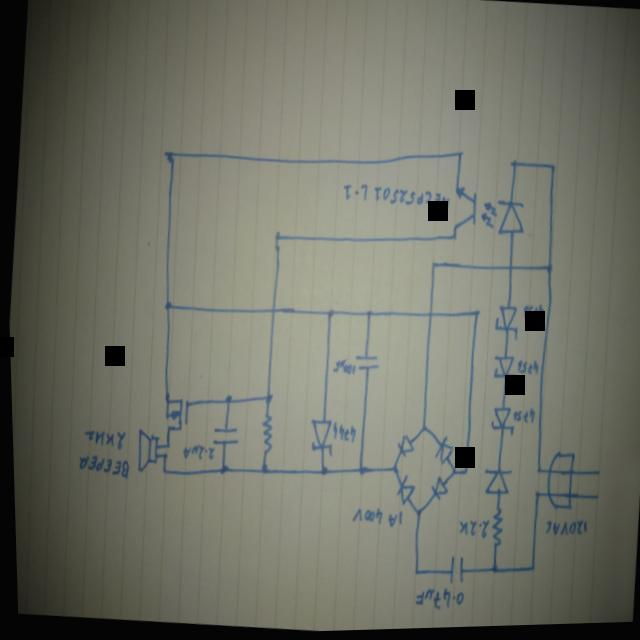capacitor: (438, 555, 465, 589), (206, 421, 237, 450), (350, 352, 378, 377)
crossover: (263, 305, 276, 318), (500, 264, 513, 276), (422, 312, 431, 321)
diode: (303, 417, 331, 460), (489, 304, 518, 345), (477, 467, 510, 500), (483, 406, 513, 440), (487, 355, 516, 389), (391, 475, 414, 510), (428, 436, 453, 468), (424, 475, 446, 504), (391, 433, 412, 461)
junction: (161, 148, 176, 165), (218, 390, 232, 408), (213, 461, 227, 478), (352, 463, 365, 481), (258, 392, 273, 407), (482, 563, 497, 578), (313, 465, 327, 480), (320, 307, 334, 322), (254, 462, 266, 479), (159, 299, 172, 314), (540, 263, 551, 279), (268, 230, 280, 244), (385, 464, 396, 479), (415, 424, 426, 438), (452, 150, 464, 162), (409, 508, 420, 521), (506, 160, 517, 173), (360, 310, 372, 321), (456, 466, 465, 480), (445, 466, 453, 480), (524, 563, 532, 577), (425, 261, 435, 272), (547, 163, 556, 175), (159, 441, 168, 452), (469, 310, 478, 321), (529, 491, 538, 502), (530, 469, 539, 480), (156, 466, 165, 476), (408, 570, 416, 581), (448, 236, 455, 245), (157, 452, 164, 460)
resistor: (484, 505, 503, 551), (253, 412, 272, 457)
terminal: (590, 470, 599, 479), (589, 495, 597, 505)
text: (337, 178, 450, 215), (72, 451, 128, 482), (408, 585, 461, 615), (77, 426, 124, 452), (538, 517, 585, 542), (452, 517, 487, 543), (346, 505, 380, 528), (178, 442, 211, 464), (328, 422, 354, 447), (507, 407, 534, 429), (517, 304, 542, 327), (329, 358, 354, 378), (513, 359, 536, 380), (381, 510, 402, 531)
transistor: (156, 395, 188, 436)
